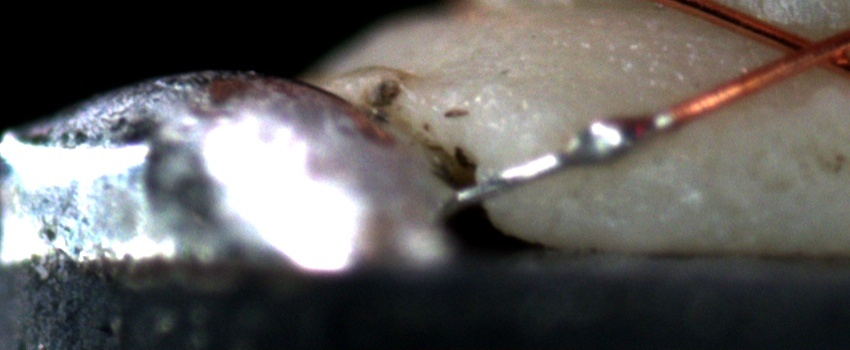CL: (765, 22, 847, 78)
TB: (556, 108, 655, 175)
TS: (452, 112, 667, 203)
TTCW: (454, 90, 707, 213)
